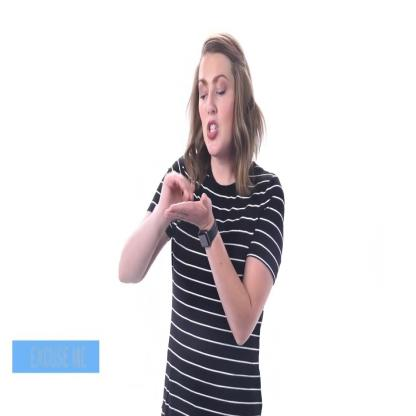ExcuseMe: (146, 164, 217, 244)
